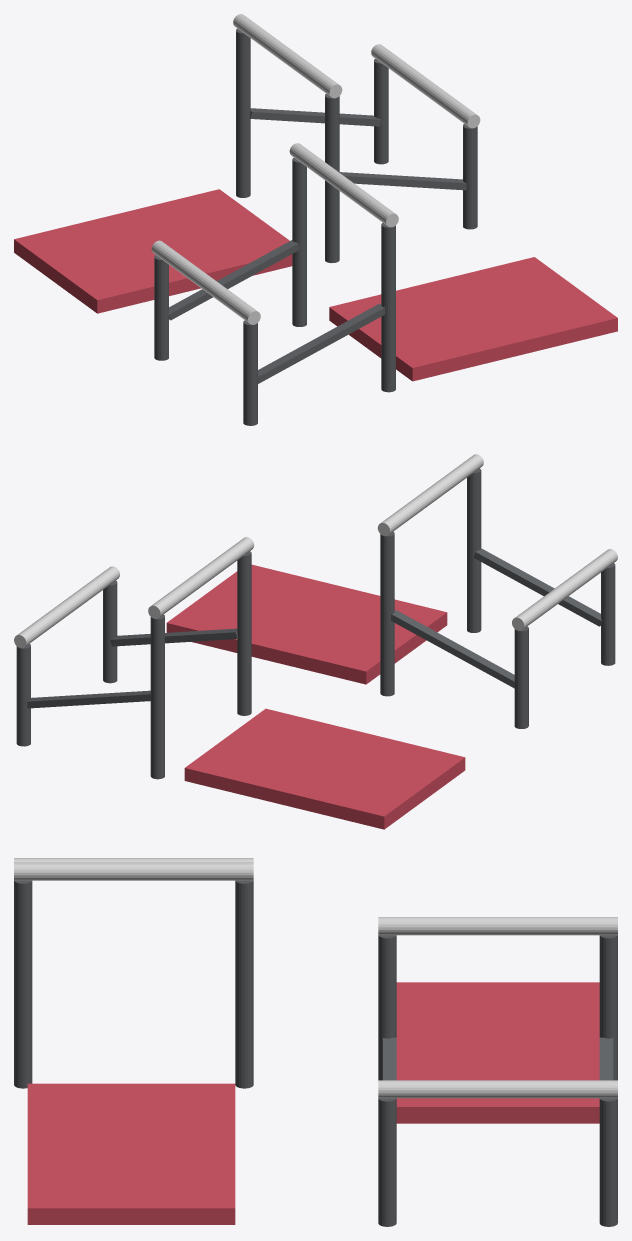
Rendered from bars.glb.
3 renders of one model, top to bottom at view 1: azimuth 30°, elevation 25°; view 2: azimuth 150°, elevation 25°; view 3: azimuth 270°, elevation 25°, orthographic. The views are drawn at different scales.
Visible parts, largest first — view 1: Mesh_Mesh_head_geo.001_lambert2SG.001; view 2: Mesh_Mesh_head_geo.001_lambert2SG.001; view 3: Mesh_Mesh_head_geo.001_lambert2SG.001.
Part boxes in pixels (<box>): Mesh_Mesh_head_geo.001_lambert2SG.001: <box>14,14,617,425</box>; Mesh_Mesh_head_geo.001_lambert2SG.001: <box>14,454,617,829</box>; Mesh_Mesh_head_geo.001_lambert2SG.001: <box>14,858,617,1226</box>.
Bounding box in the file's own units: 118 × 53 × 131.
